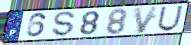6: (26, 12, 48, 39)
8: (105, 7, 129, 35), (80, 10, 101, 35)
S: (52, 10, 77, 37)
U: (156, 5, 184, 32)
V: (133, 5, 160, 35)
